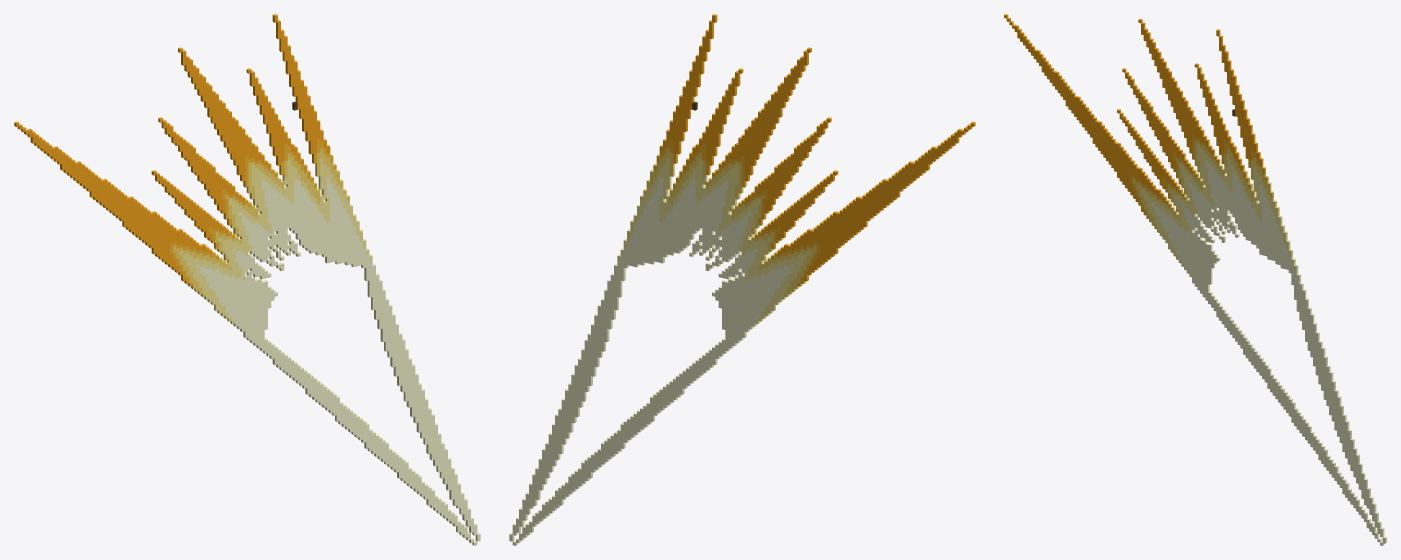
File: Fight_738_2_08_fx.obj
3 renders of one model, left to right at view 1: azimuth 30°, elevation 25°; view 2: azimuth 150°, elevation 25°; view 3: azimuth 330°, elevation 25°, orthographic. The views are drawn at different scales.
Size of the model in its own units: 14.2 by 16.9 by 0.1.
